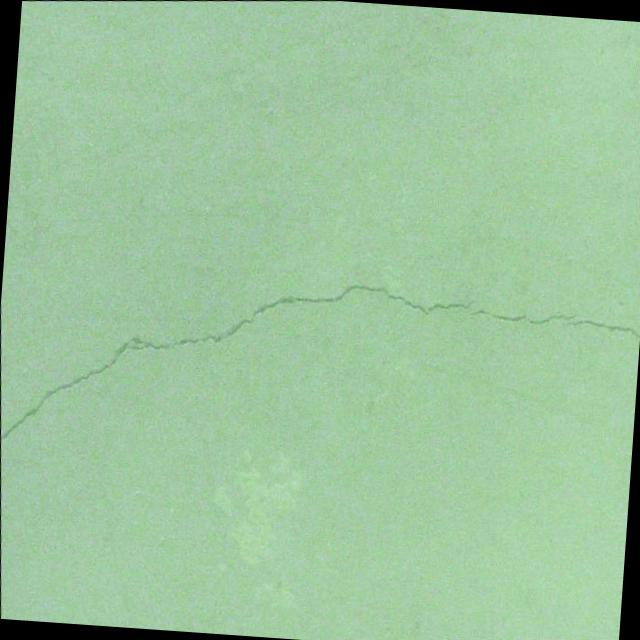crack: (0, 250, 489, 473), (463, 295, 640, 350)
